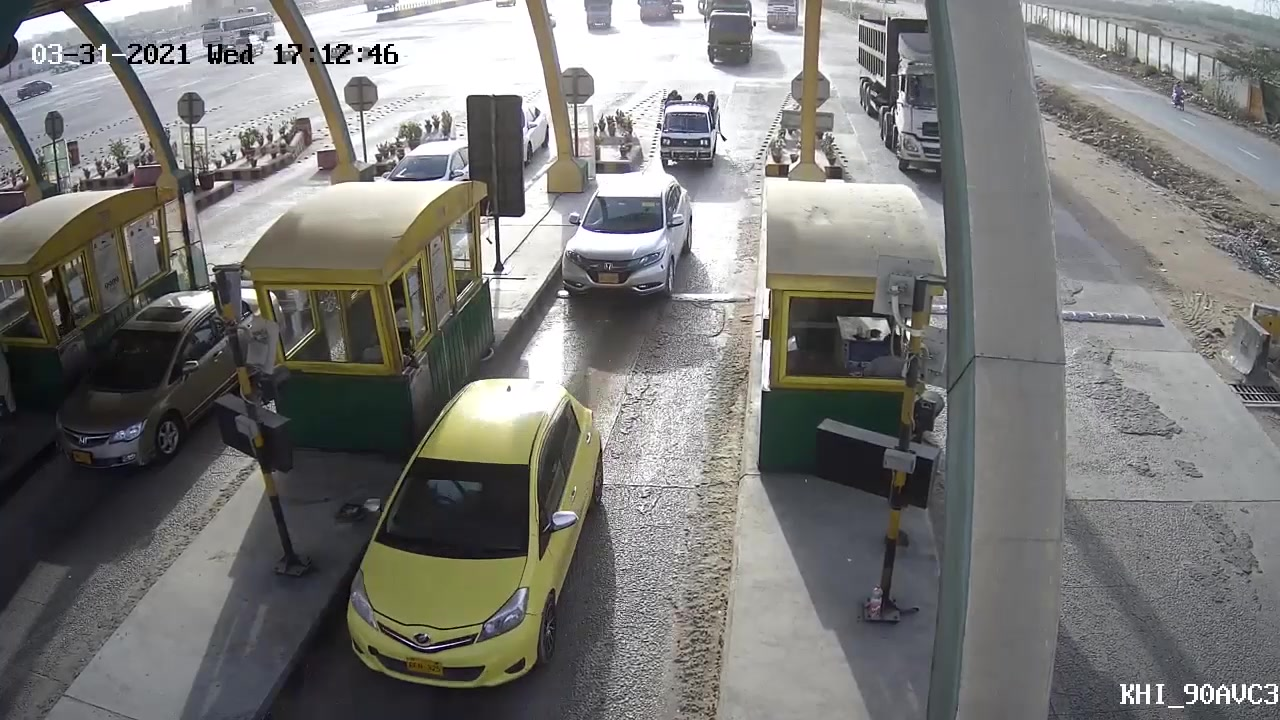F1: (335, 372, 618, 699), (550, 166, 689, 304)
